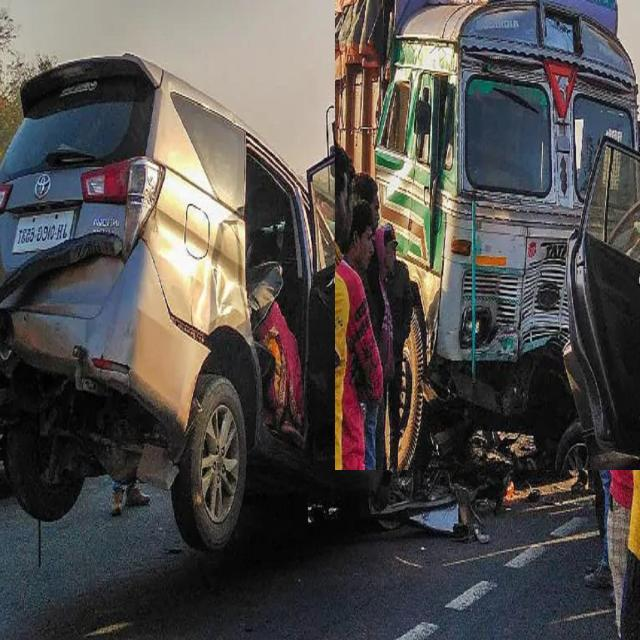accident: (0, 55, 450, 550), (335, 0, 640, 470)
